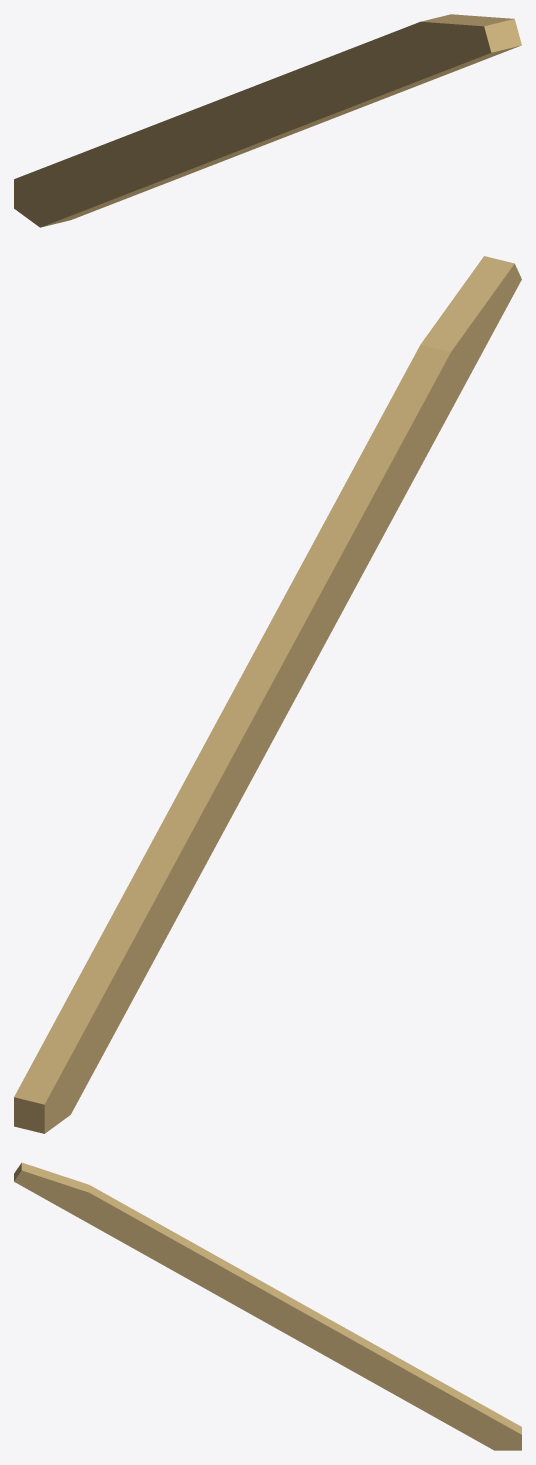
3 renders of one model, top to bottom at view 1: azimuth 30°, elevation 25°; view 2: azimuth 150°, elevation 25°; view 3: azimuth 270°, elevation 25°, orthographic. The views are drawn at different scales.
Parts seen in each view (by area): view 1: L1-3-S11-327-WEB04; view 2: L1-3-S11-327-WEB04; view 3: L1-3-S11-327-WEB04.
Boxes of the visible parts, x1,y1,x2,y2 form: L1-3-S11-327-WEB04: [14, 14, 521, 227]; L1-3-S11-327-WEB04: [14, 256, 521, 1133]; L1-3-S11-327-WEB04: [14, 1162, 521, 1450].
Bounding box in the file's own units: 0.045 × 0.7391 × 1.21.
